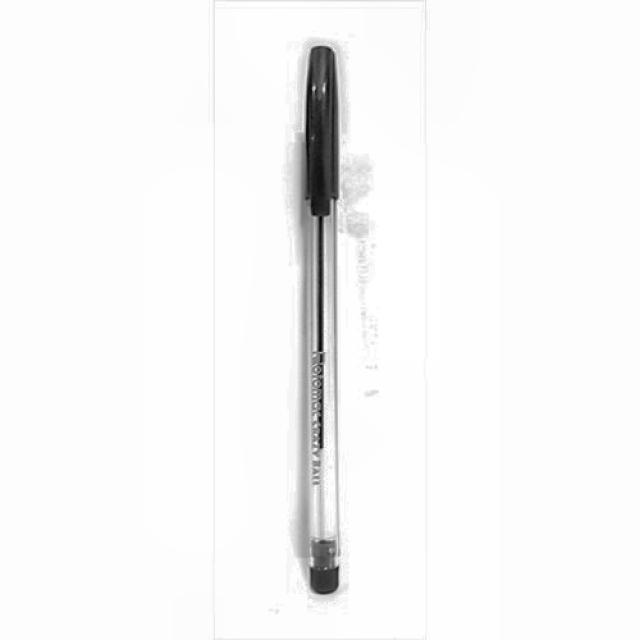Pen: (296, 37, 348, 593)
